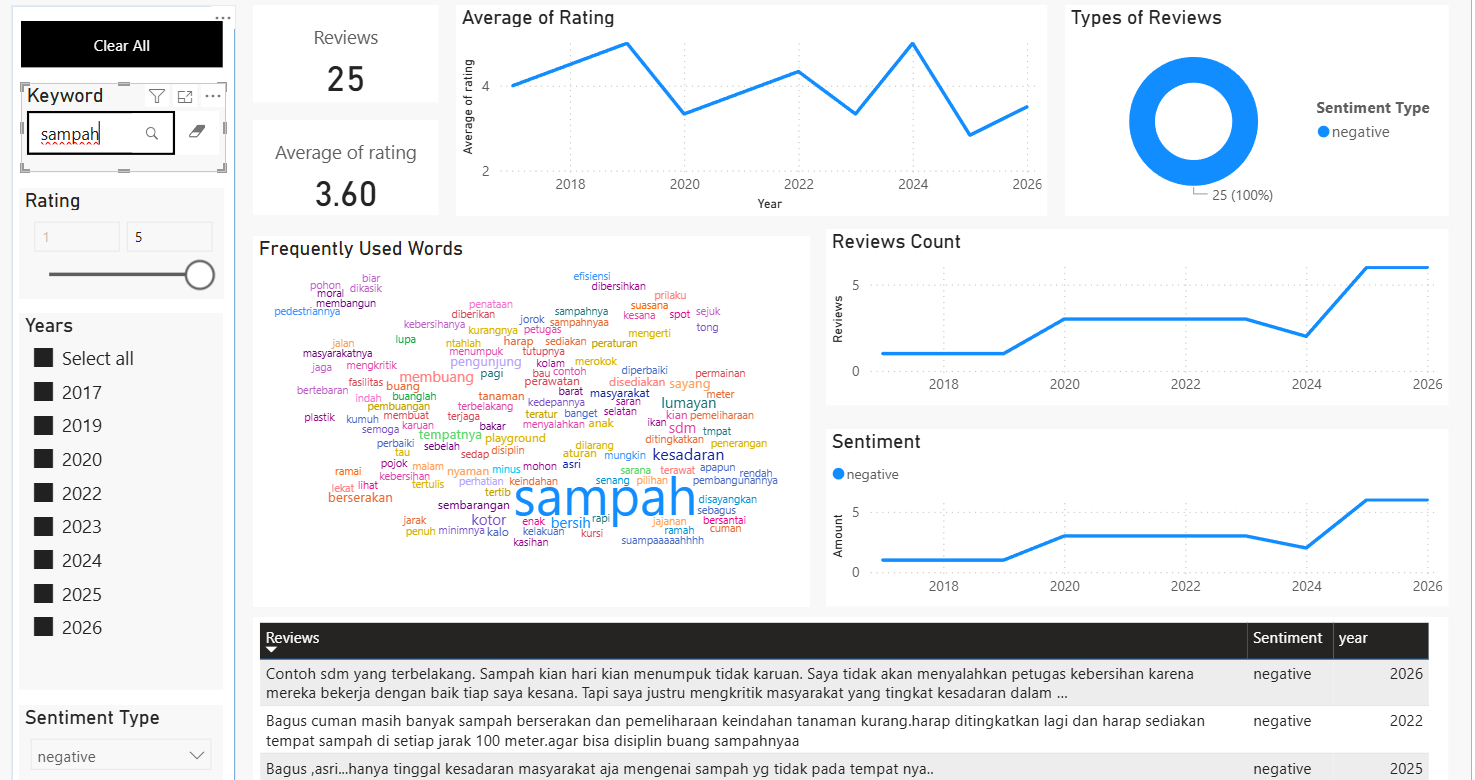

What the dashboard file says about the page in this screenshot:
{"tool":"powerbi","page":{"name":"Page 1","canvas":[1280,720],"ordinal":0},"visuals":[{"type":"cardVisual","fields":{"Data":["Avg(Sheet1.rating)"]},"box":[229.7,114.3,160,81.6],"z":0},{"type":"shape","box":[20.7,15.2,193.7,689],"z":1000},{"type":"lineChart","title":"Average of Rating","fields":{"Y":["Avg(Sheet1.rating)"],"Category":["Sheet1.date_parsed.Variation.Date Hierarchy.Year"]},"box":[404.9,15.2,510.5,181.8],"z":2000},{"type":"donutChart","title":"Types of Reviews","fields":{"Category":["Sheet1.sentiment_type"],"Y":["CountNonNull(Sheet1.sentiment_type)"]},"box":[929.5,15.2,330.9,181.8],"z":3000},{"type":"lineChart","title":"Sentiment","fields":{"Category":["Sheet1.date_parsed.Variation.Date Hierarchy.Year"],"Y":["CountNonNull(Sheet1.sentiment_type)"],"Series":["Sheet1.sentiment_type"]},"box":[723.8,381,536.6,153.5],"z":4000},{"type":"lineChart","title":"Reviews Count","fields":{"Category":["Sheet1.date_parsed.Variation.Date Hierarchy.Year"],"Y":["CountNonNull(Sheet1.review_id)"]},"box":[723.8,209,536.6,152.4],"z":5000},{"type":"tableEx","fields":{"Values":["Sheet1.review_text","Sheet1.sentiment_type"]},"box":[229.7,543.1,1030.7,169.8],"z":6000},{"type":"textFilter25A4896A83E0487089E2B90C9AE57C8A","fields":{"field":["Sheet1.review_text"]},"box":[29.4,82.7,176.3,77.3],"z":7000},{"type":"WordCloud1447959067750","title":"Frequently Used Words","fields":{"Values":["CountNonNull(Sheet1.word_cloud)"],"Category":["Sheet1.word_cloud"]},"box":[229.7,214.4,480,320],"z":8000},{"type":"slicer","title":"Rating","fields":{"Values":["Sheet1.rating"]},"box":[27.2,173.1,176.3,94.7],"z":9000},{"type":"cardVisual","fields":{"Data":["CountNonNull(Sheet1.review_id)"]},"box":[229.7,15.2,160,83.8],"z":10000},{"type":"slicer","title":"Years","fields":{"Values":["Sheet1.year"]},"box":[27.2,280.8,176.3,325.4],"z":11000},{"type":"slicer","title":"Sentiment Type","fields":{"Values":["Sheet1.sentiment_type"]},"box":[27.2,619.3,176.3,68.6],"z":12000},{"type":"actionButton","box":[29.4,29.4,174.1,40.3],"z":13000}]}

Visuals, with their boxes on the page's 1280x720 design canvas (x1, y1, x2, y2). These are canvas units, not pixel positions in the 1475x780 screenshot, which may show the page scaled, cropped or inside an application window:
cardVisual - Avg(Sheet1.rating): BBox(230, 114, 390, 196)
shape: BBox(21, 15, 214, 704)
"Average of Rating" lineChart: BBox(405, 15, 915, 197)
"Types of Reviews" donutChart: BBox(930, 15, 1260, 197)
"Sentiment" lineChart: BBox(724, 381, 1260, 534)
"Reviews Count" lineChart: BBox(724, 209, 1260, 361)
tableEx - Sheet1.review_text x Sheet1.sentiment_type: BBox(230, 543, 1260, 713)
textFilter25A4896A83E0487089E2B90C9AE57C8A - Sheet1.review_text: BBox(29, 83, 206, 160)
"Frequently Used Words" WordCloud1447959067750: BBox(230, 214, 710, 534)
"Rating" slicer: BBox(27, 173, 204, 268)
cardVisual - CountNonNull(Sheet1.review_id): BBox(230, 15, 390, 99)
"Years" slicer: BBox(27, 281, 204, 606)
"Sentiment Type" slicer: BBox(27, 619, 204, 688)
actionButton: BBox(29, 29, 204, 70)
